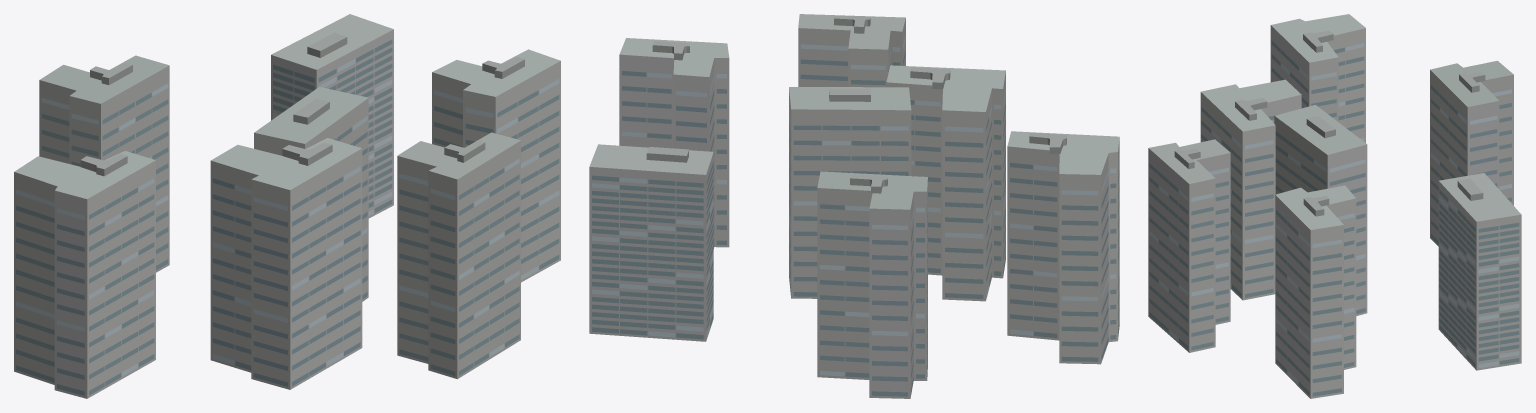
Rendered from apt-a12115001.glb.
The picture shows the model from 3 angles, left to right: view 1: azimuth 30°, elevation 25°; view 2: azimuth 150°, elevation 25°; view 3: azimuth 270°, elevation 25°; orthographic projection. The views are drawn at different scales.
Visible parts, largest first — view 1: apt-a12115001; view 2: apt-a12115001; view 3: apt-a12115001.
Boxes of the visible parts, left/top/right/bottom form: apt-a12115001: left=14, top=14, right=560, bottom=398; apt-a12115001: left=589, top=14, right=1119, bottom=398; apt-a12115001: left=1148, top=14, right=1521, bottom=398.
Size of the model in its own units: 186 by 70 by 135.
